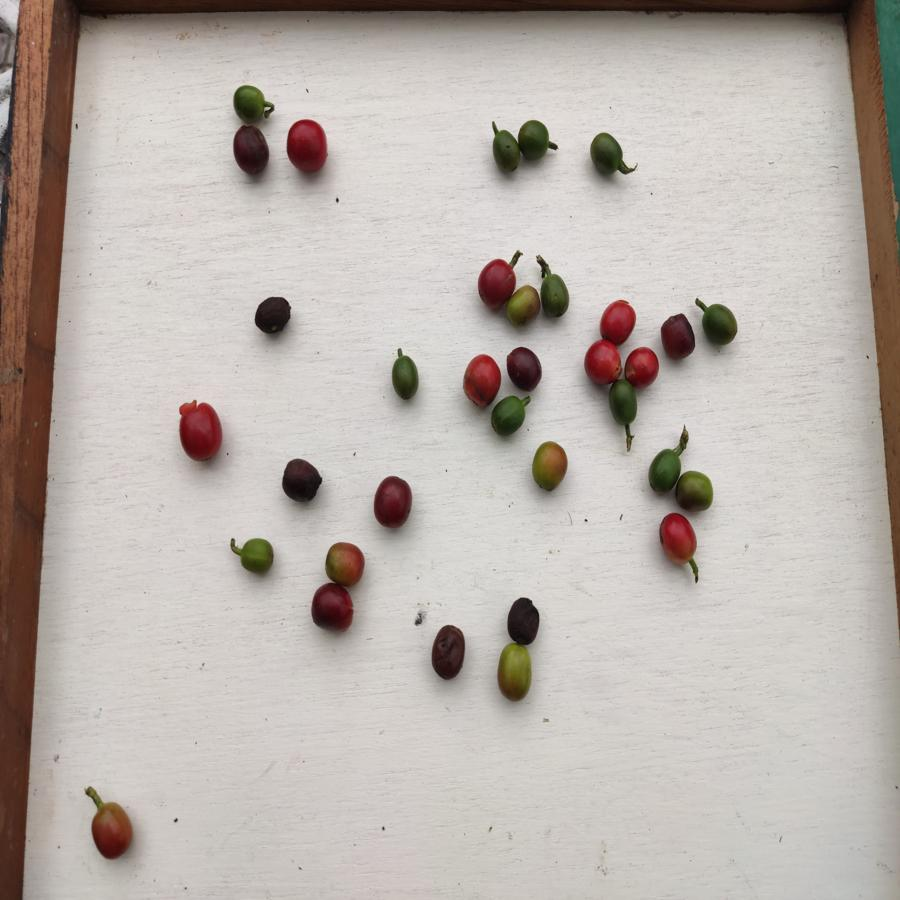Inmaduro: (698, 302, 742, 351), (228, 79, 274, 123), (645, 442, 682, 496), (588, 128, 625, 180), (517, 115, 553, 167), (676, 472, 716, 512), (538, 274, 574, 318), (238, 536, 277, 576), (492, 395, 529, 435), (388, 357, 422, 400), (607, 383, 638, 430), (490, 125, 520, 172)
Maduro: (653, 508, 705, 572), (87, 802, 144, 860), (177, 402, 225, 462), (284, 116, 332, 174), (474, 253, 518, 312), (461, 350, 502, 411), (579, 336, 624, 385), (595, 299, 638, 344), (625, 345, 662, 388)
Pinton: (322, 538, 373, 586), (497, 643, 534, 701), (531, 438, 570, 492), (506, 286, 541, 327)
Sobremaduro: (371, 472, 416, 532), (310, 585, 359, 636), (502, 344, 554, 391), (430, 619, 467, 684), (232, 123, 271, 182), (281, 458, 323, 505), (252, 294, 298, 335), (658, 313, 695, 361), (505, 596, 540, 646)
